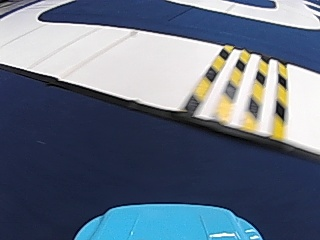bump: (187, 44, 291, 131)
